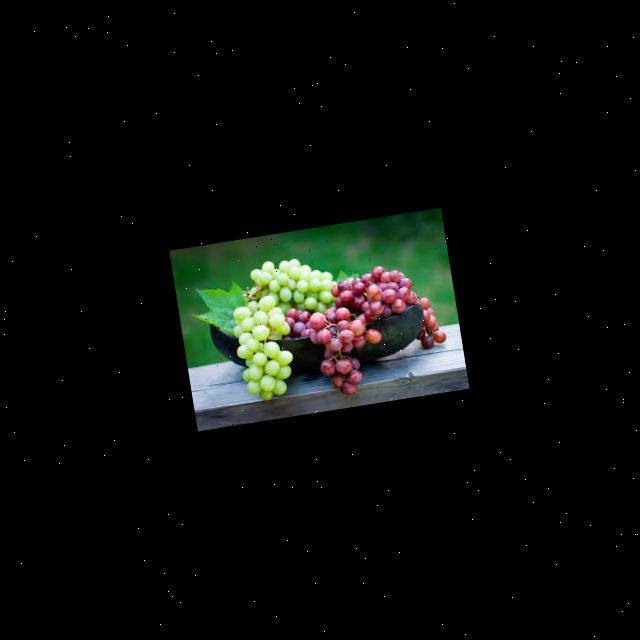grape: (222, 236, 453, 412)
